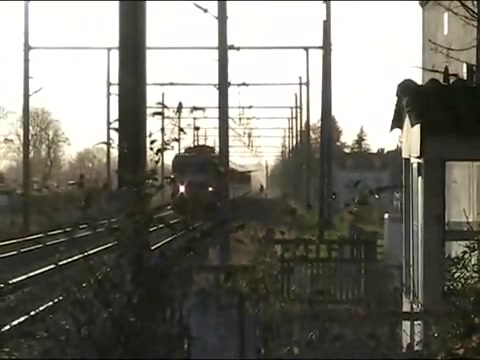train: (168, 143, 257, 214)
